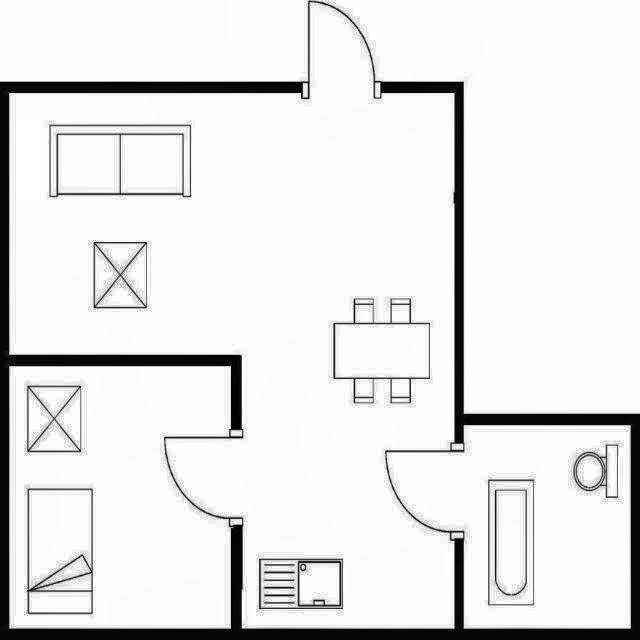room: (9, 94, 455, 629), (10, 365, 230, 628), (463, 425, 631, 629)
